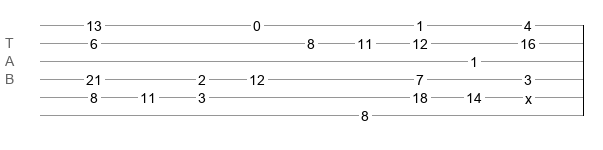0: (253, 18, 261, 28)
1: (416, 18, 424, 28), (470, 54, 478, 64)
11: (140, 90, 156, 100), (357, 36, 373, 46)
12: (249, 72, 265, 82), (412, 36, 428, 46)
13: (86, 18, 102, 28)
14: (466, 90, 482, 100)
16: (520, 36, 536, 46)
18: (412, 90, 428, 100)
2: (198, 72, 206, 82)
21: (86, 72, 102, 82)
3: (198, 90, 206, 100), (524, 72, 532, 82)
4: (524, 18, 532, 28)
6: (90, 36, 98, 46)
7: (416, 72, 424, 82)
8: (90, 90, 98, 100), (307, 36, 315, 46), (361, 108, 369, 118)
x: (525, 91, 532, 99)
